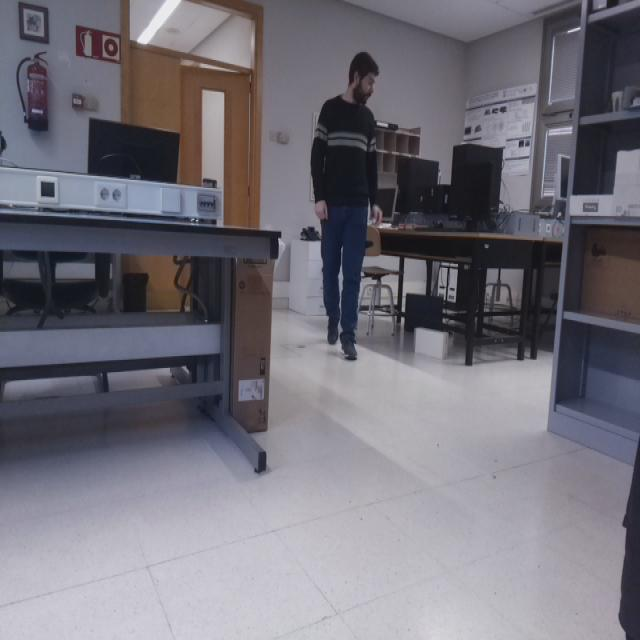person: (306, 52, 385, 359)
